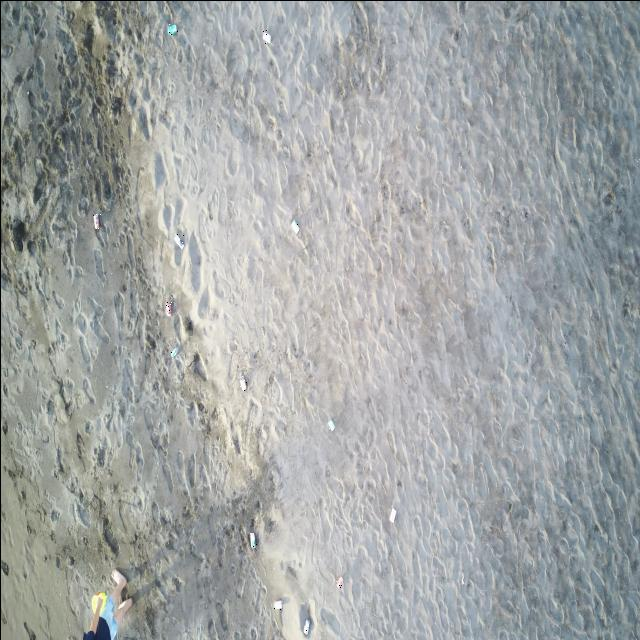Garbage: (91, 592, 107, 612), (173, 232, 183, 248), (92, 212, 100, 228), (164, 300, 172, 316), (240, 373, 247, 390), (167, 23, 176, 35), (388, 508, 395, 523), (303, 620, 310, 635), (263, 29, 270, 43), (249, 532, 255, 547), (169, 346, 178, 356), (327, 420, 335, 431), (292, 219, 298, 233), (335, 576, 342, 588), (273, 600, 281, 608), (460, 572, 464, 584)
